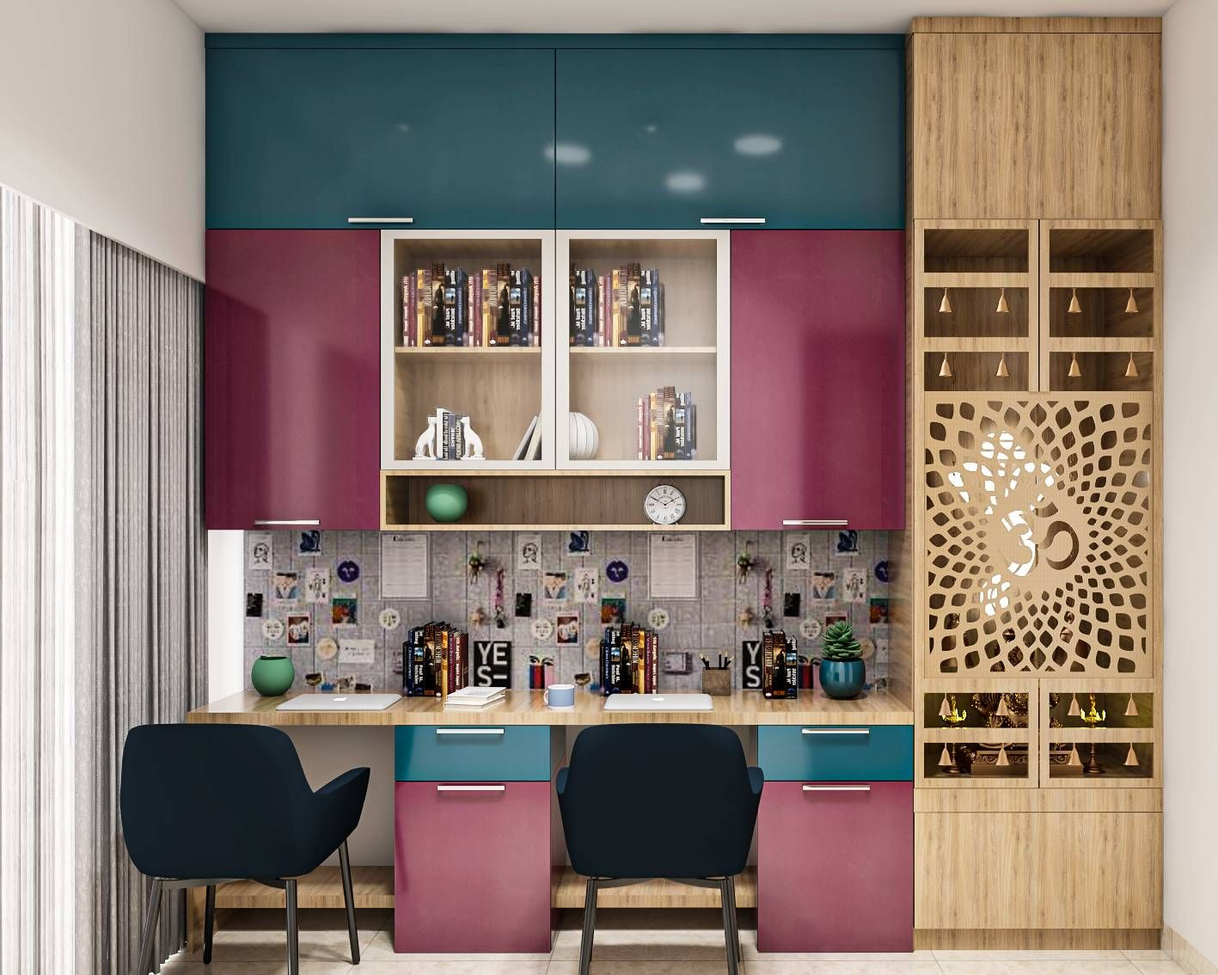not a gesture sign: (101, 650, 376, 962)
